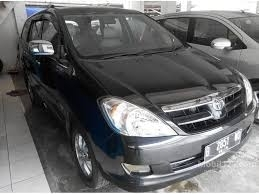plate: (203, 131, 243, 163)
